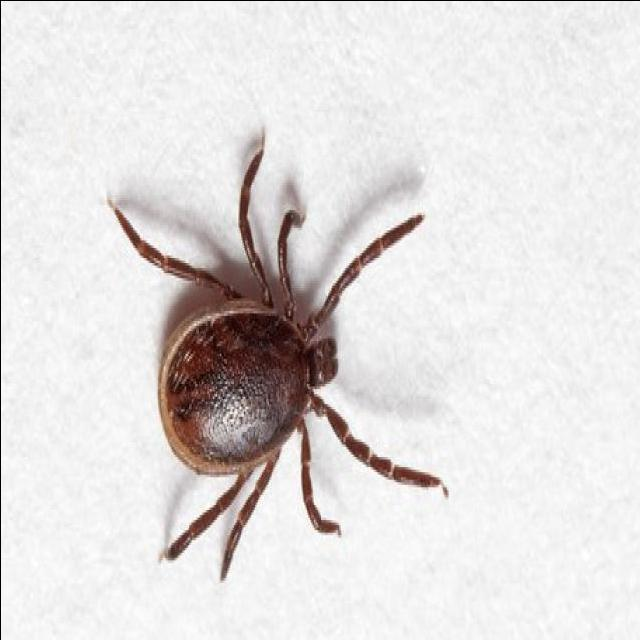Ixodes Ricinus-M: (107, 134, 448, 577)
